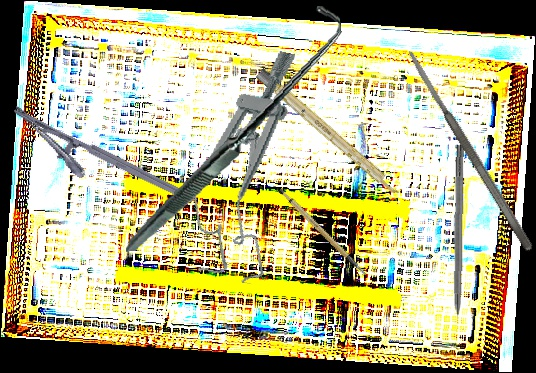Hook Surgical: (102, 4, 363, 252), (450, 144, 465, 341)
Needle Holder: (0, 103, 196, 230)
Scalpel Handle: (255, 68, 403, 198), (276, 178, 367, 287)
Spatula Surgical: (403, 46, 536, 254)
Speculum: (175, 39, 315, 287)
